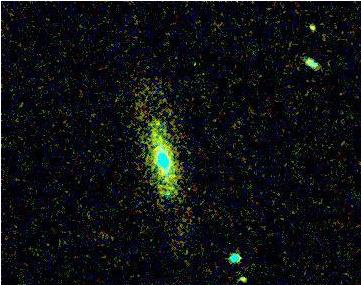star: (291, 11, 321, 41)
